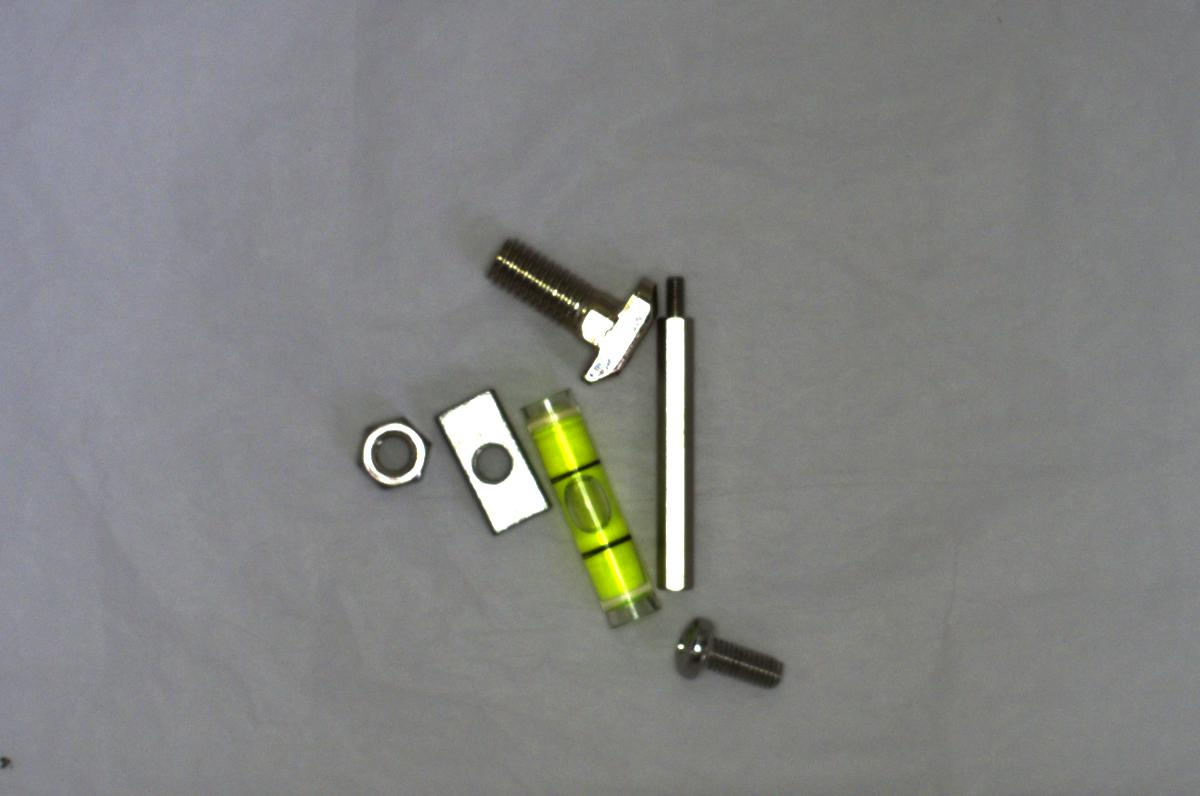Hexagon nut: (348, 415, 446, 499)
Hexagonal steel column: (648, 272, 700, 595)
Horizontal bubble: (524, 382, 657, 633)
Rectangular nut: (435, 387, 544, 541)
Round head screw: (658, 613, 787, 699)
T-shaped screw: (481, 234, 653, 382)
